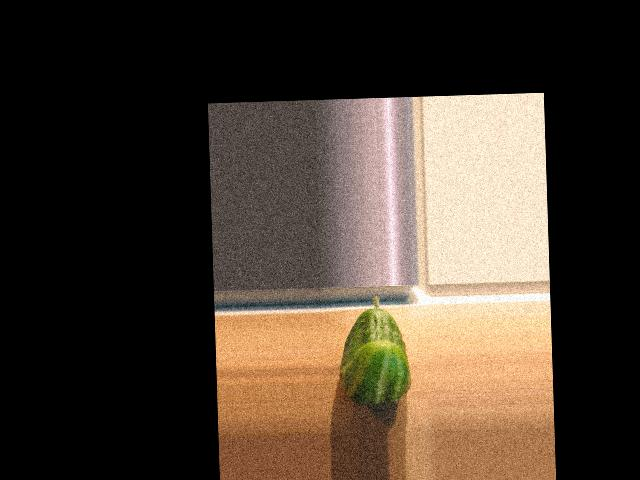cucumber: (337, 294, 412, 406)
